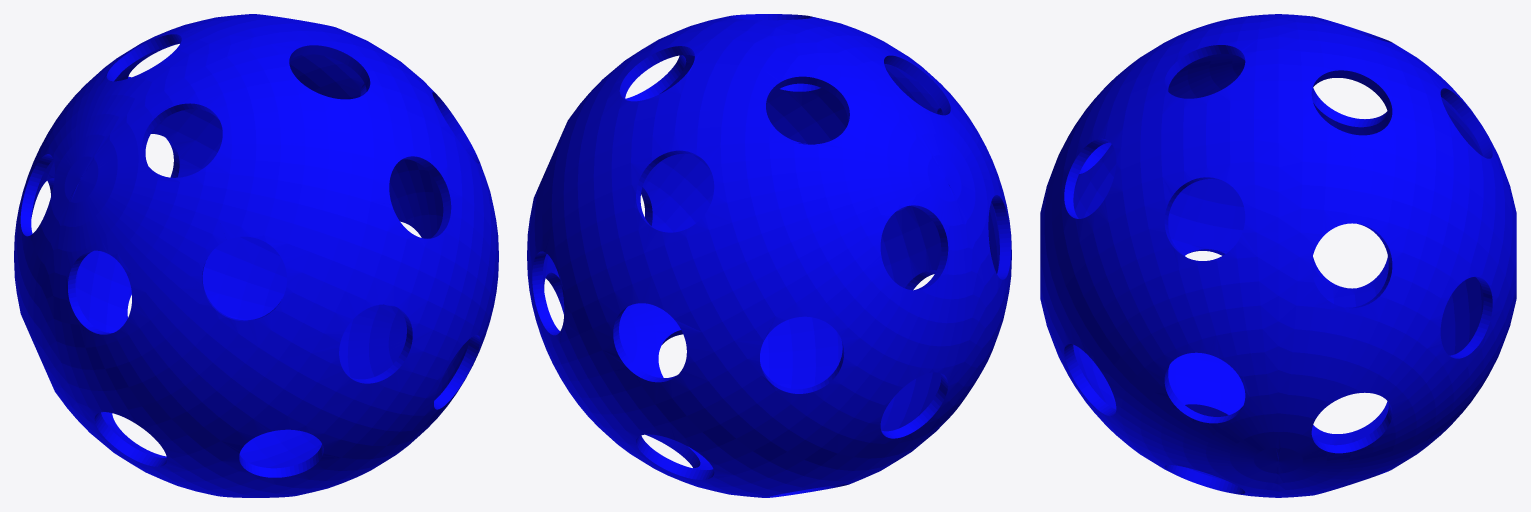
File: blue-nectar.obj
The picture shows the model from 3 angles, left to right: view 1: azimuth 30°, elevation 25°; view 2: azimuth 150°, elevation 25°; view 3: azimuth 270°, elevation 25°; orthographic projection.
Parts seen in each view (by area): view 1: blue-nectar; view 2: blue-nectar; view 3: blue-nectar.
Boxes of the visible parts, bbox=[...] form: blue-nectar: bbox=[14, 14, 498, 497]; blue-nectar: bbox=[527, 14, 1011, 497]; blue-nectar: bbox=[1040, 14, 1516, 497].
Size of the model in its own units: 3.62 by 3.62 by 3.56.
